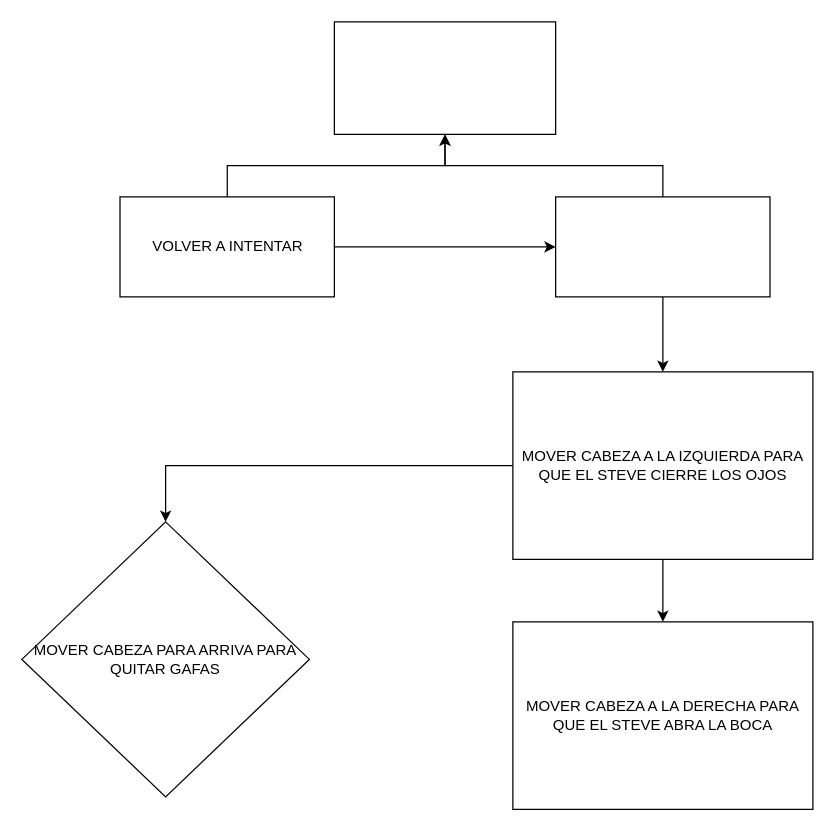
The diagram is 835 pixels wide and 831 high, and some of its shapes have lost their labels. The centre of each missing label's shape, as x and y in pixels:
"CONFIRMAR CAMARA" goes at (662,246).
"DETECTAR CAMARA" goes at (444,77).
